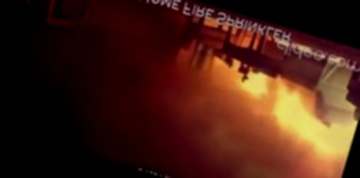fire: (165, 42, 360, 178)
